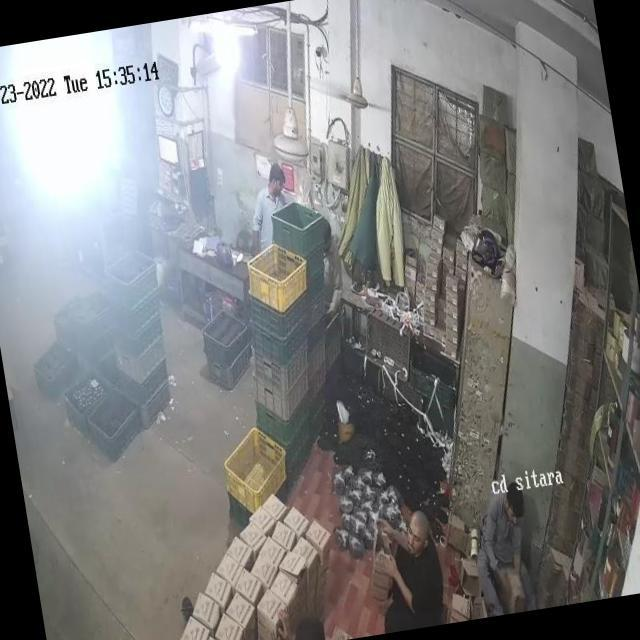person: (474, 470, 540, 616), (374, 512, 452, 632), (244, 158, 297, 256)
